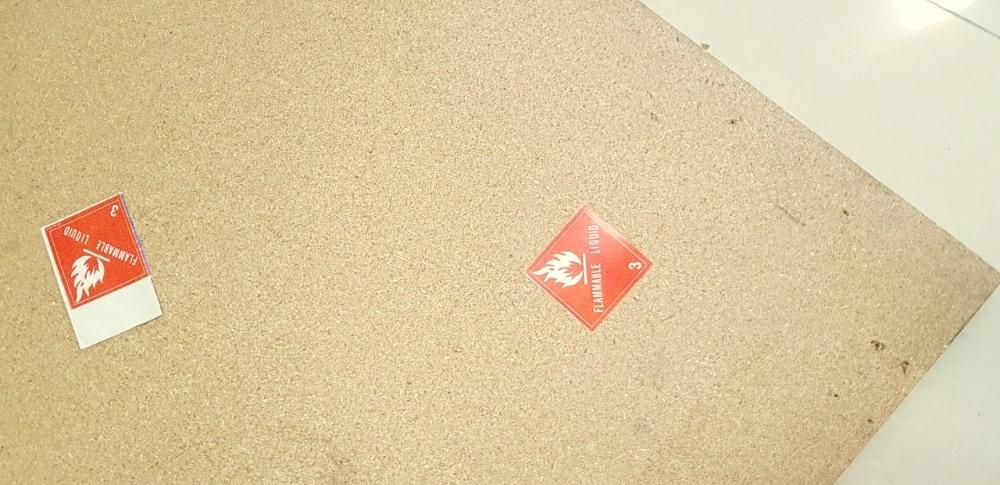flammable: (520, 203, 656, 333), (38, 188, 158, 312)
